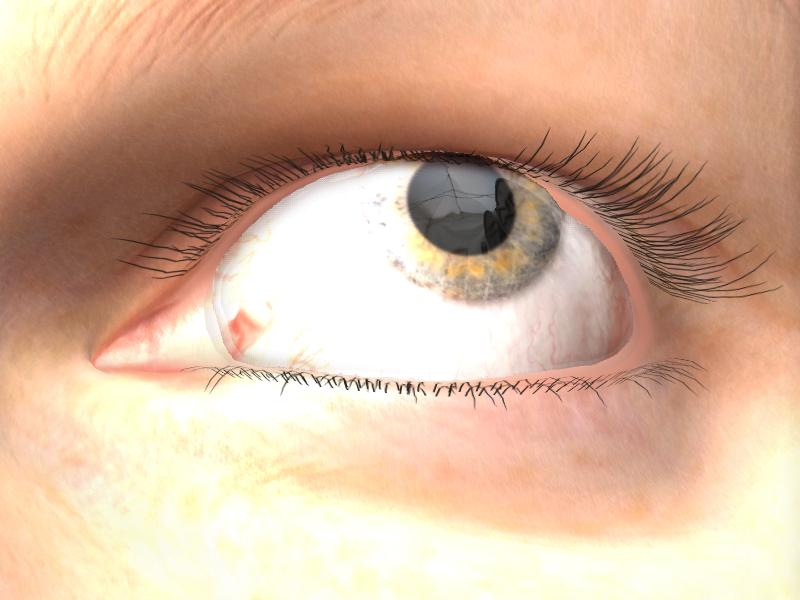eye: (360, 159, 560, 308)
